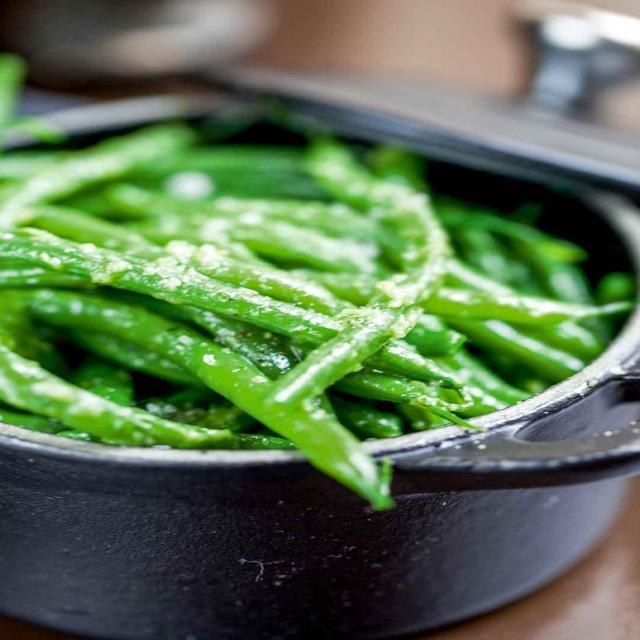Beans: (0, 118, 639, 466)
